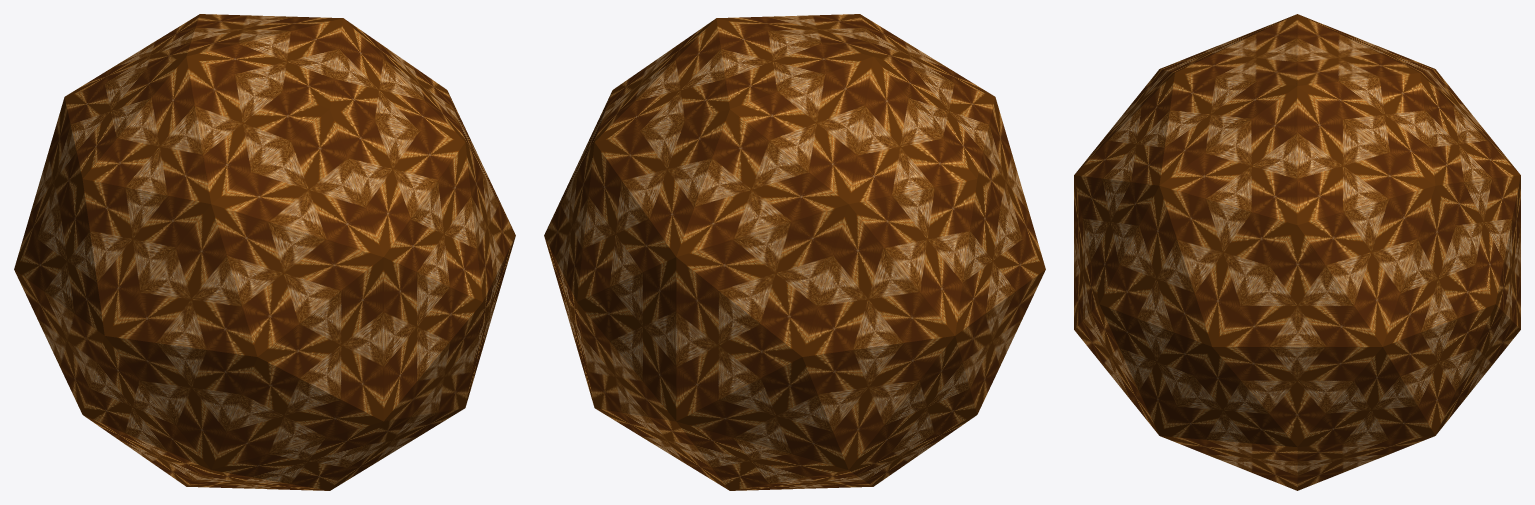
File: 20PentakisDodecahedron.obj
3 renders of one model, left to right at view 1: azimuth 30°, elevation 25°; view 2: azimuth 150°, elevation 25°; view 3: azimuth 270°, elevation 25°, orthographic. The views are drawn at different scales.
Bounding box in the file's own units: 4.85 × 4.85 × 4.85.
Materials: 1 (1 with a texture image).
